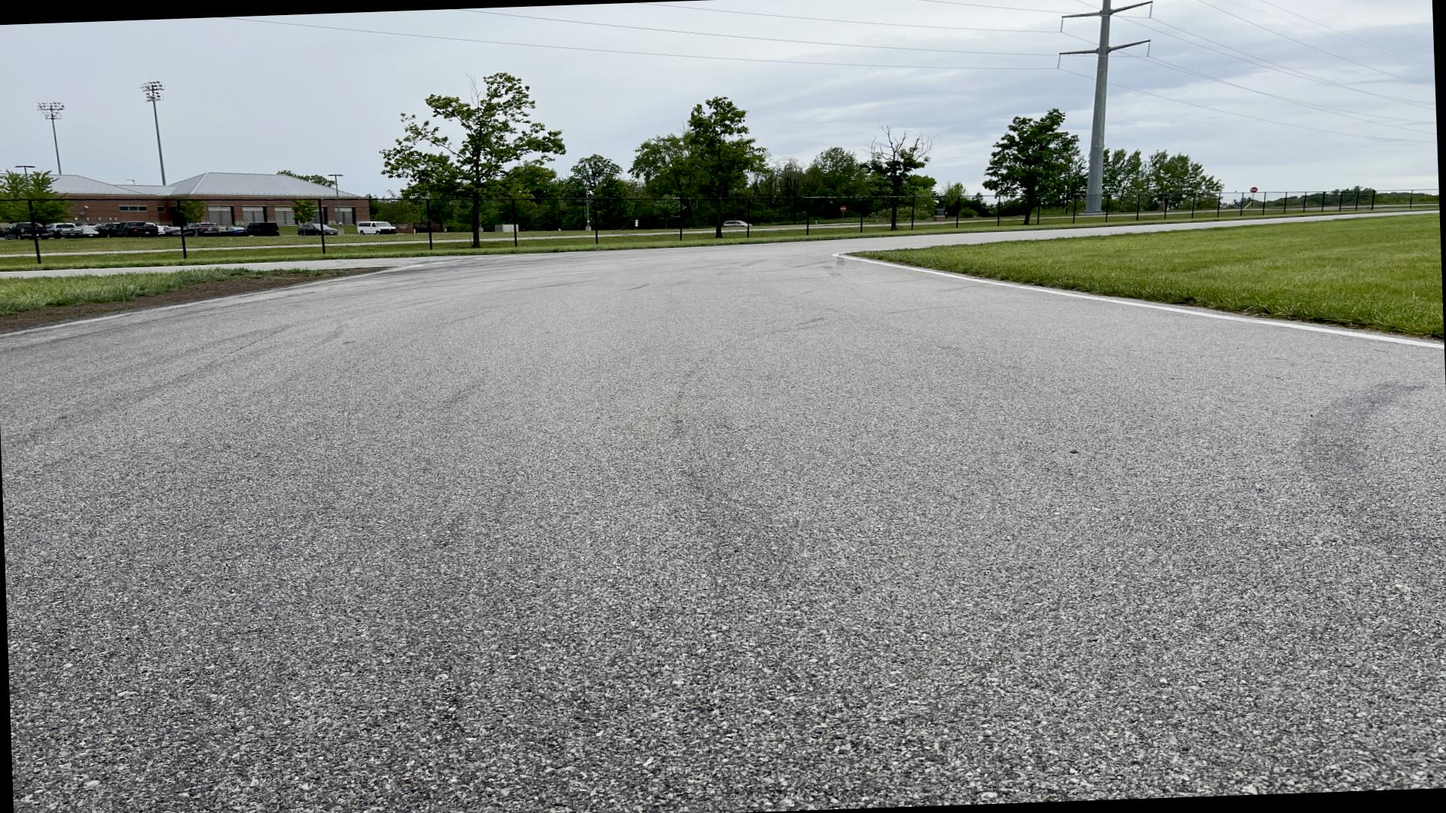white-line: (831, 248, 1444, 349), (0, 265, 423, 337)
